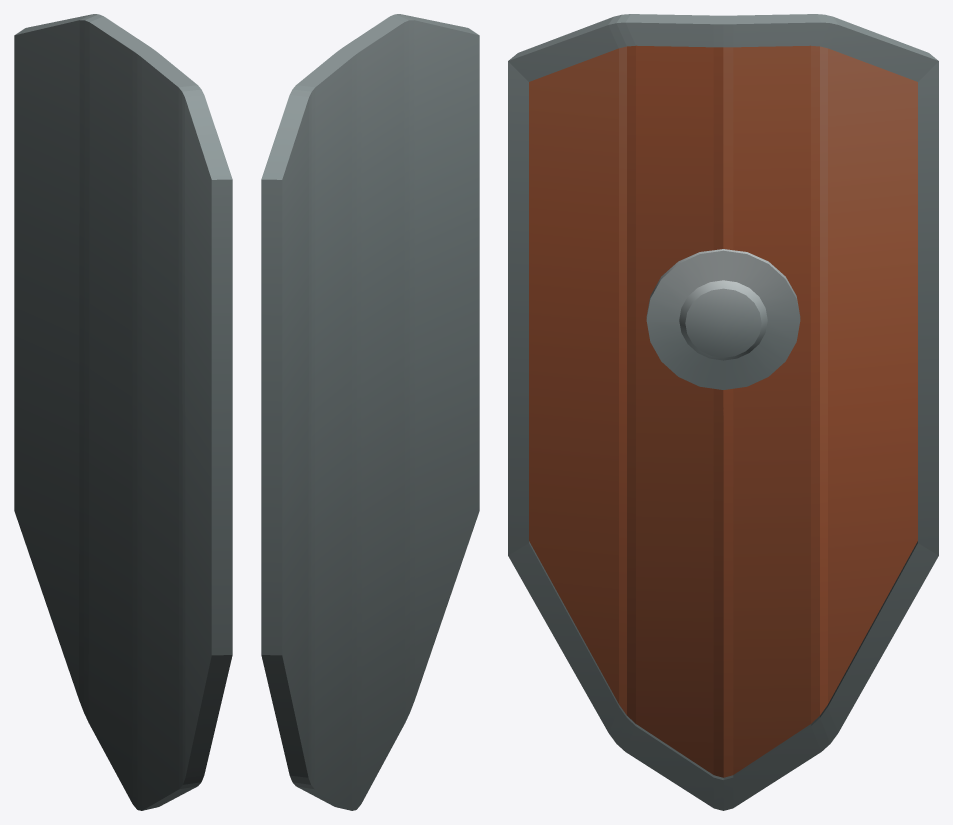
File: Shield.fbx
3 views of the same model, side by side, from view 1: azimuth 30°, elevation 25°; view 2: azimuth 150°, elevation 25°; view 3: azimuth 270°, elevation 25° (orthographic). The views are drawn at different scales.
Parts seen in each view (by area): view 1: Long_shield.001; view 2: Long_shield.001; view 3: Long_shield.001.
Boxes of the visible parts, left/top/right/bottom form: Long_shield.001: left=14, top=14, right=232, bottom=810; Long_shield.001: left=261, top=14, right=479, bottom=810; Long_shield.001: left=508, top=14, right=938, bottom=810.
Size of the model in its own units: 0.0821 by 1.18 by 0.5856.
